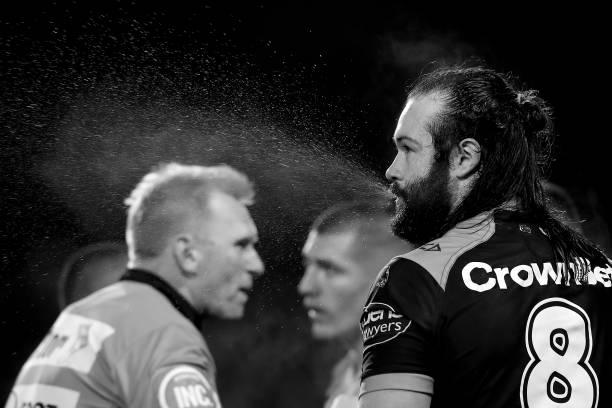Spitting: (310, 36, 585, 261)
